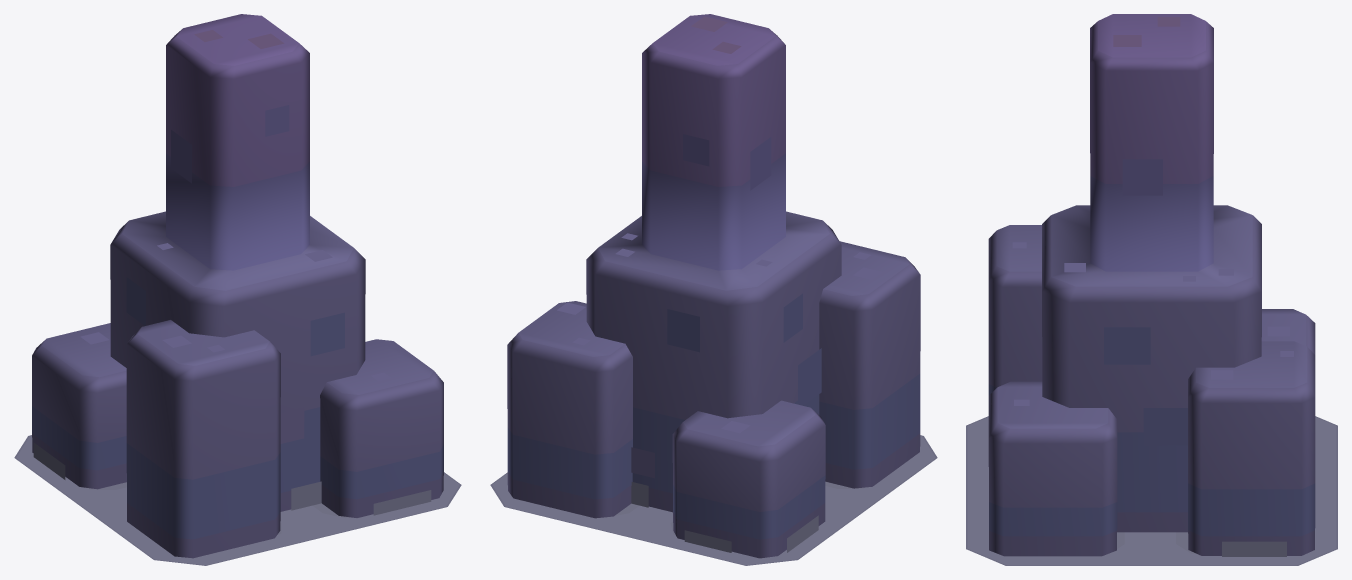
File: B_cave1_rock02.fbx
The picture shows the model from 3 angles, left to right: view 1: azimuth 30°, elevation 25°; view 2: azimuth 150°, elevation 25°; view 3: azimuth 270°, elevation 25°; orthographic projection. The views are drawn at different scales.
Parts seen in each view (by area): view 1: model 1, model; view 2: model 1, model; view 3: model 1, model.
Boxes of the visible parts, left/top/right/bottom form: model 1: left=14, top=14, right=461, bottom=565; model: left=16, top=435, right=459, bottom=564; model 1: left=490, top=14, right=937, bottom=565; model: left=492, top=436, right=935, bottom=564; model 1: left=966, top=14, right=1337, bottom=565; model: left=967, top=417, right=1336, bottom=565.
Bounding box in the file's own units: 4.83 × 6.53 × 4.83.
